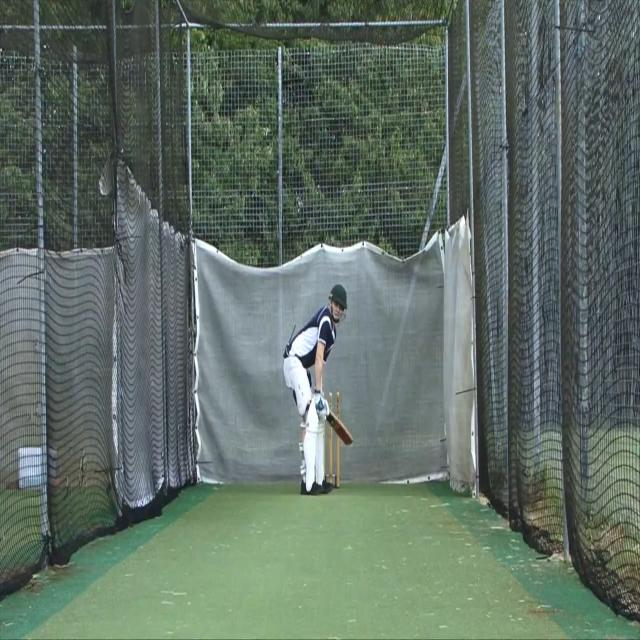batsman: (282, 281, 354, 498)
